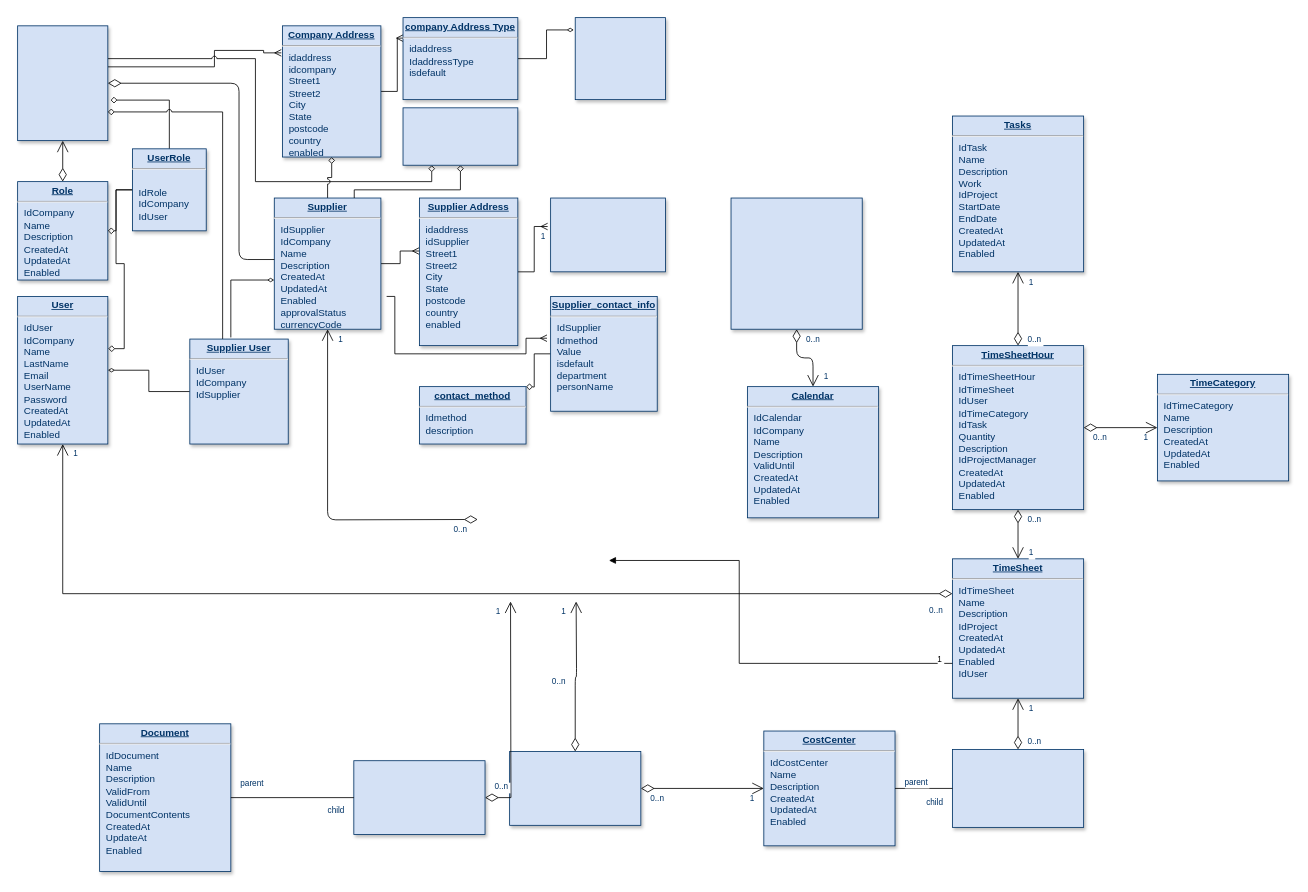
Image size: 1308x892. Some labels were removed from this diagram. Each missing label, with the centre of its shape:
Address Type idAddressType description: the point at 620,59
Company IdCompany Name Description CreatedAt UpdatedAt Enabled currencycode: the point at 63,84
CurrencyCode currencycode description: the point at 461,137
Holiday IdHoliday IdCalendar Name Description Date CreatedAt UpdatedAt Enabled: the point at 797,264
ProjectCostCenter IdProjectCostCenter IdProject IdCostCenter: the point at 576,789
ProjectDocument IdProjectDocument IdProject IdDocument: the point at 420,798
Supplier Address Type idaddress IdaddressType isdefault: the point at 608,236
TimeSheetCostCenter IdTimeSheetCostCenter IdTimeSheet IdCostCenter: the point at 1018,789
